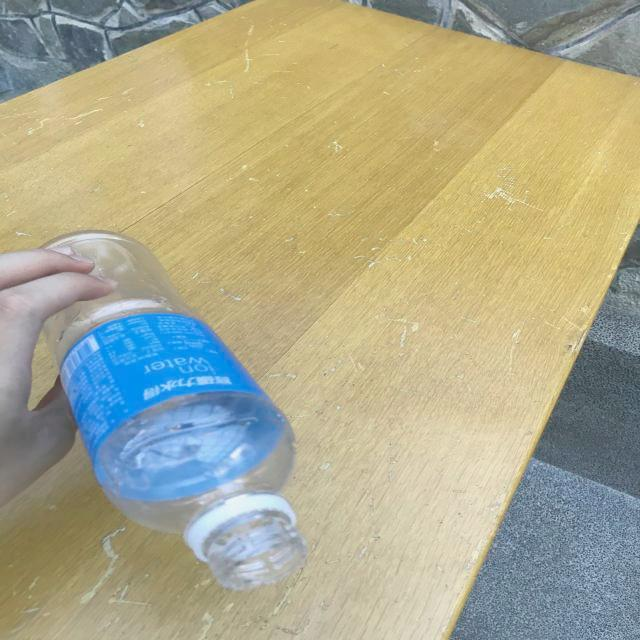bottle: (37, 230, 307, 589)
